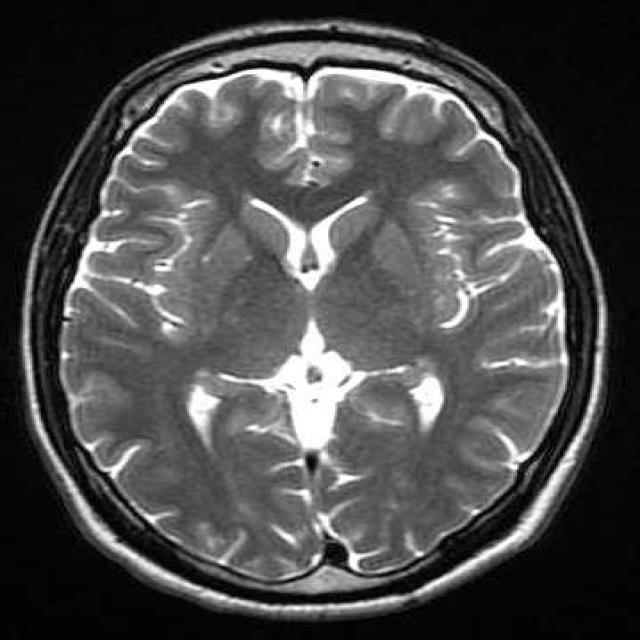notumor: (20, 20, 610, 626)
